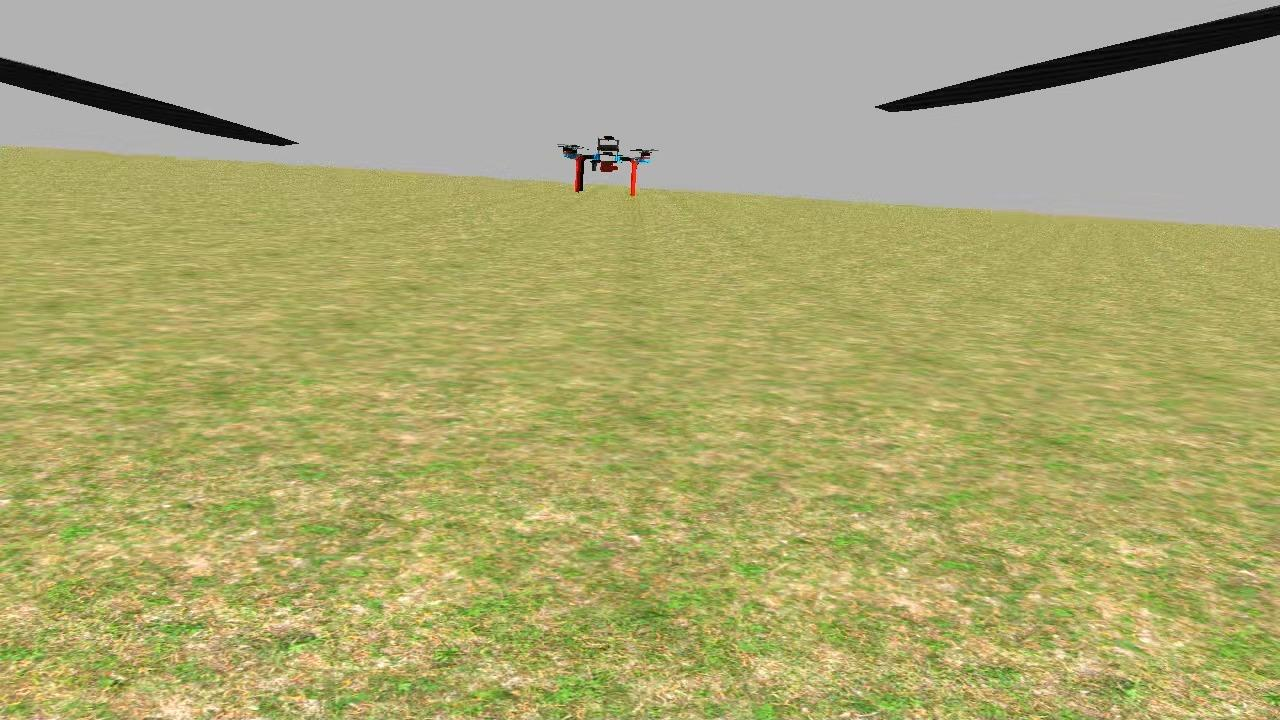UAV: (552, 130, 662, 202)
